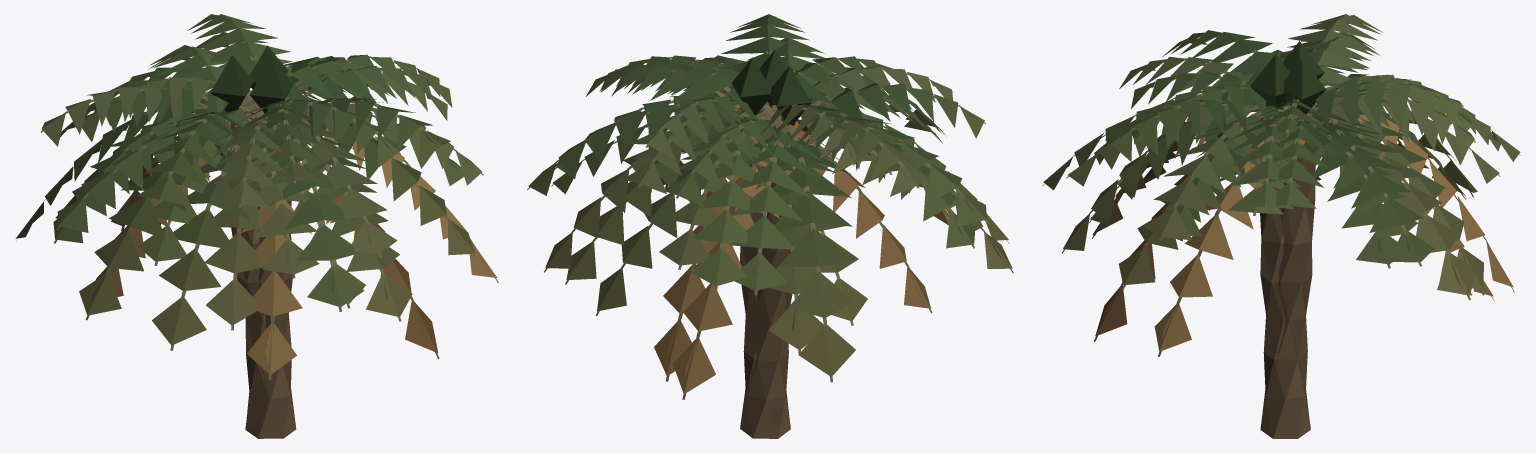
The model's file is datepalm.glb.
3 renders of one model, left to right at view 1: azimuth 30°, elevation 25°; view 2: azimuth 150°, elevation 25°; view 3: azimuth 270°, elevation 25°, orthographic.
Parts seen in each view (by area): view 1: datepalm_v0, datepalm_v1, datepalm_v2; view 2: datepalm_v1, datepalm_v2, datepalm_v0; view 3: datepalm_v2, datepalm_v0, datepalm_v1.
Boxes of the visible parts, <box> form: datepalm_v0: <box>55,14,483,438</box>; datepalm_v1: <box>15,45,463,438</box>; datepalm_v2: <box>75,32,498,330</box>; datepalm_v1: <box>551,38,1013,438</box>; datepalm_v2: <box>527,56,958,402</box>; datepalm_v0: <box>554,14,1009,438</box>; datepalm_v2: <box>1066,36,1520,438</box>; datepalm_v0: <box>1042,32,1500,438</box>; datepalm_v1: <box>1089,14,1514,431</box>.
Bounding box in the file's own units: 10.29 × 9.52 × 11.06.
